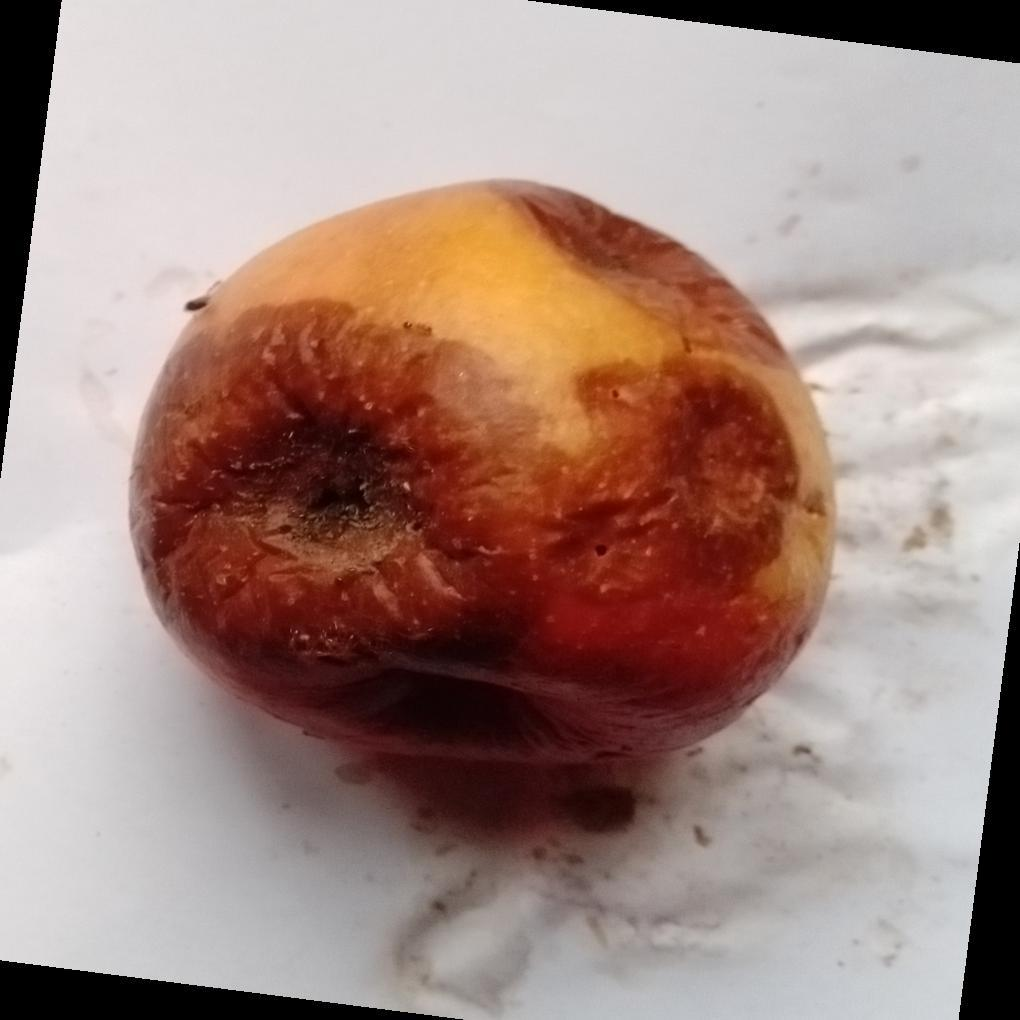FreshOrange: (126, 180, 838, 822)
